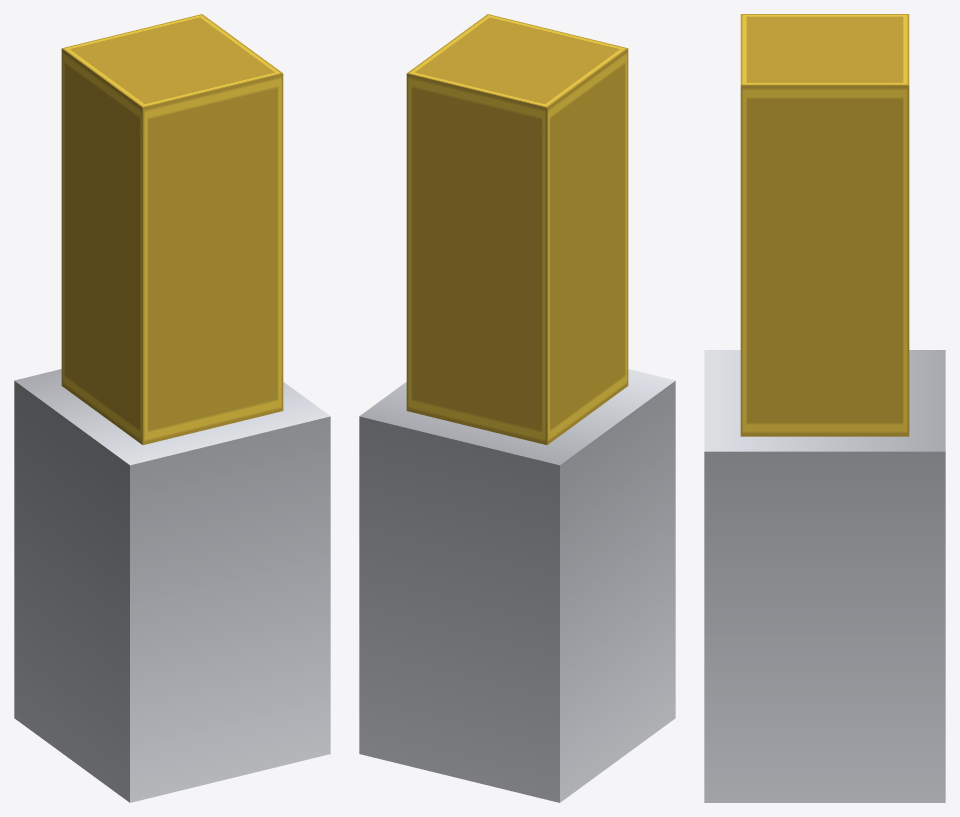
Rendered from KIT_Pillar_Cluster_1.4.glb.
3 views of the same model, side by side, from view 1: azimuth 30°, elevation 25°; view 2: azimuth 150°, elevation 25°; view 3: azimuth 270°, elevation 25° (orthographic). The views are drawn at different scales.
Parts seen in each view (by area): view 1: KIT_Pillar_Cluster_1.4; view 2: KIT_Pillar_Cluster_1.4; view 3: KIT_Pillar_Cluster_1.4.
Boxes of the visible parts, bbox=[...] form: KIT_Pillar_Cluster_1.4: bbox=[14, 14, 330, 802]; KIT_Pillar_Cluster_1.4: bbox=[359, 14, 675, 802]; KIT_Pillar_Cluster_1.4: bbox=[704, 14, 945, 802].
Bounding box in the file's own units: 1.4 × 4.5 × 1.4.
1 material, 1 textured.
